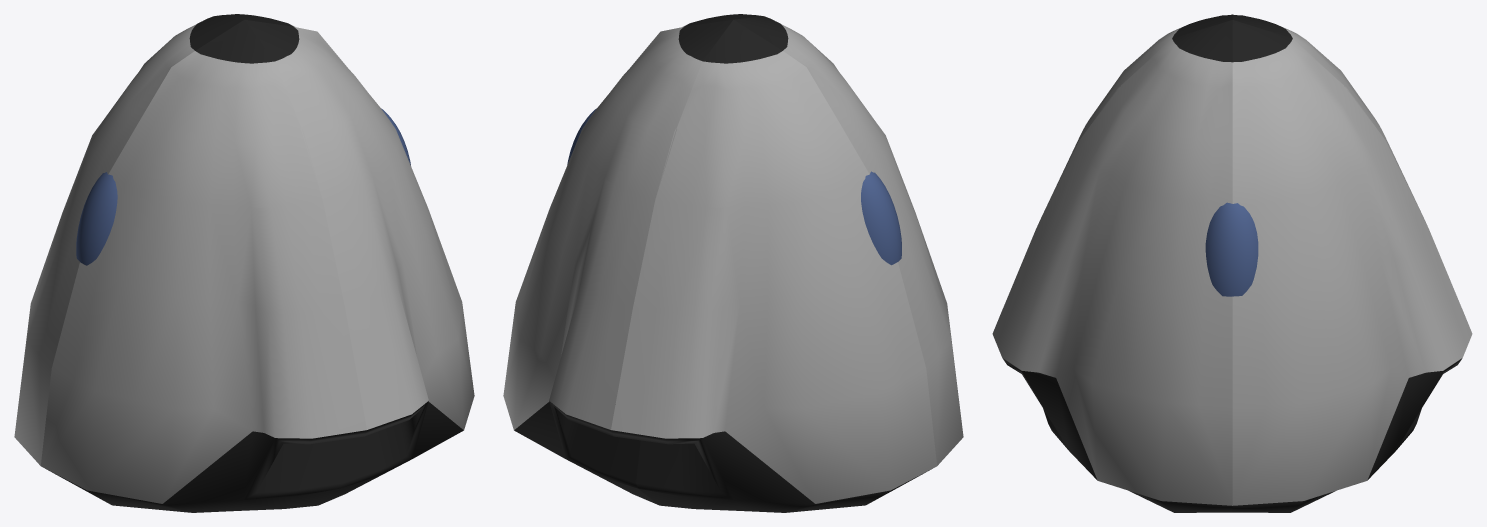
The model's file is Reentry module.fbx.
3 renders of one model, left to right at view 1: azimuth 30°, elevation 25°; view 2: azimuth 150°, elevation 25°; view 3: azimuth 270°, elevation 25°, orthographic. The views are drawn at different scales.
Parts seen in each view (by area): view 1: pCone8, pCone9, pCone11, pSphere1; view 2: pCone11, pCone10, pCone8, pSphere1; view 3: pCone10, pCone9, pSphere2, pCone8, pCone11.
Part boxes in pixels (x1=…): pCone8: x1=41, y1=20, x2=366, y2=512; pCone9: x1=245, y1=19, x2=474, y2=504; pCone11: x1=14, y1=16, x2=243, y2=465; pSphere1: x1=76, y1=172, x2=117, y2=265; pCone11: x1=611, y1=20, x2=936, y2=512; pCone10: x1=503, y1=19, x2=732, y2=504; pCone8: x1=734, y1=16, x2=963, y2=465; pSphere1: x1=861, y1=171, x2=901, y2=265; pCone10: x1=1232, y1=20, x2=1472, y2=512; pCone9: x1=992, y1=20, x2=1232, y2=512; pSphere2: x1=1205, y1=202, x2=1258, y2=296; pCone8: x1=999, y1=14, x2=1232, y2=316; pCone11: x1=1232, y1=14, x2=1465, y2=316.
Size of the model in its own units: 8 by 8.36 by 8.34.
